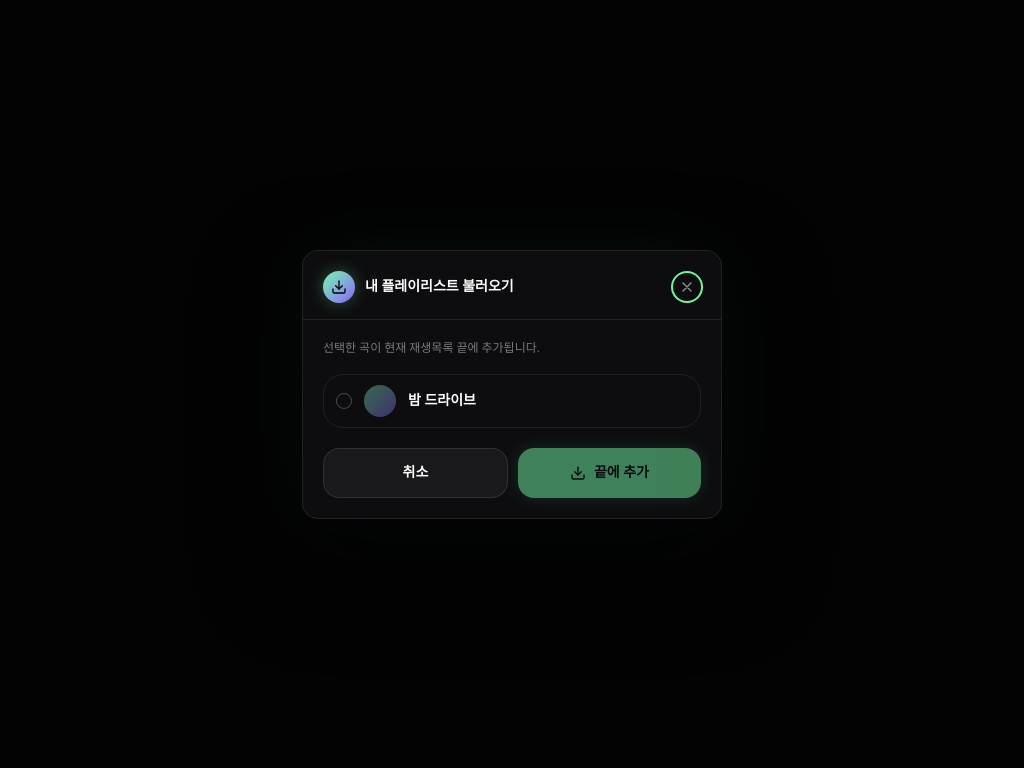
Test case: ImportToRoomDialog › 추가된 곡이 0이면 "추가할 새 곡이 없어요"로 안내한다
This screenshot has width=1024, height=768.
Click the button "밤 드라이브": click(380, 400) [323,374,701,428]
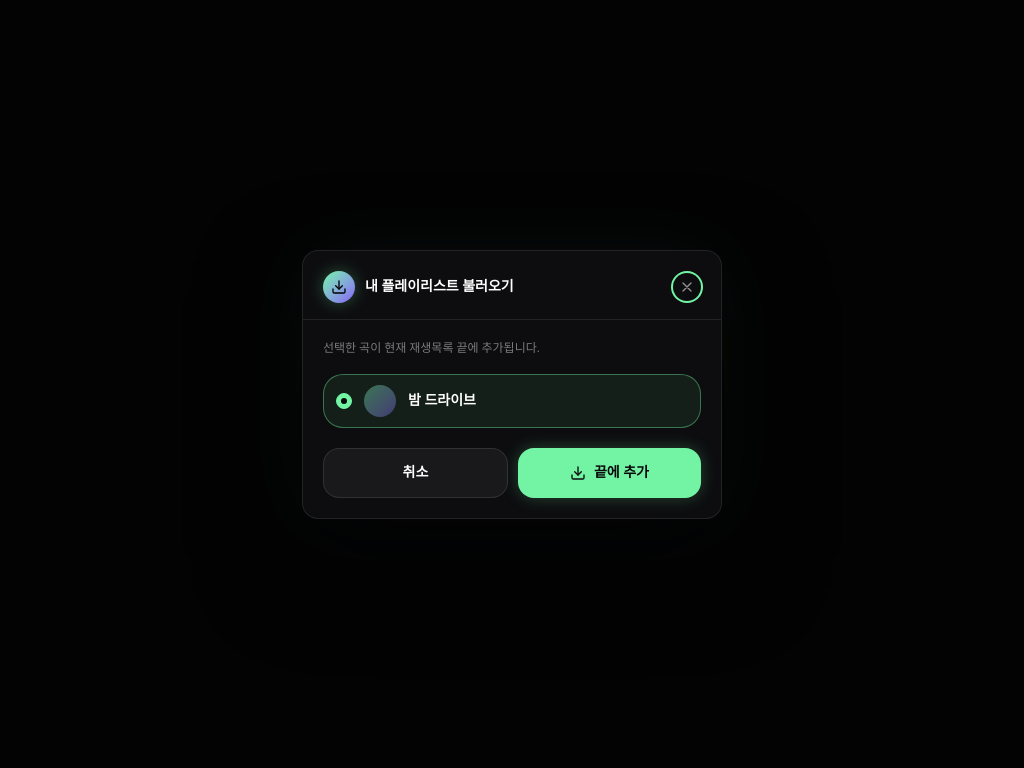
Click the button "끝에 추가": click(610, 472) [518,448,701,498]
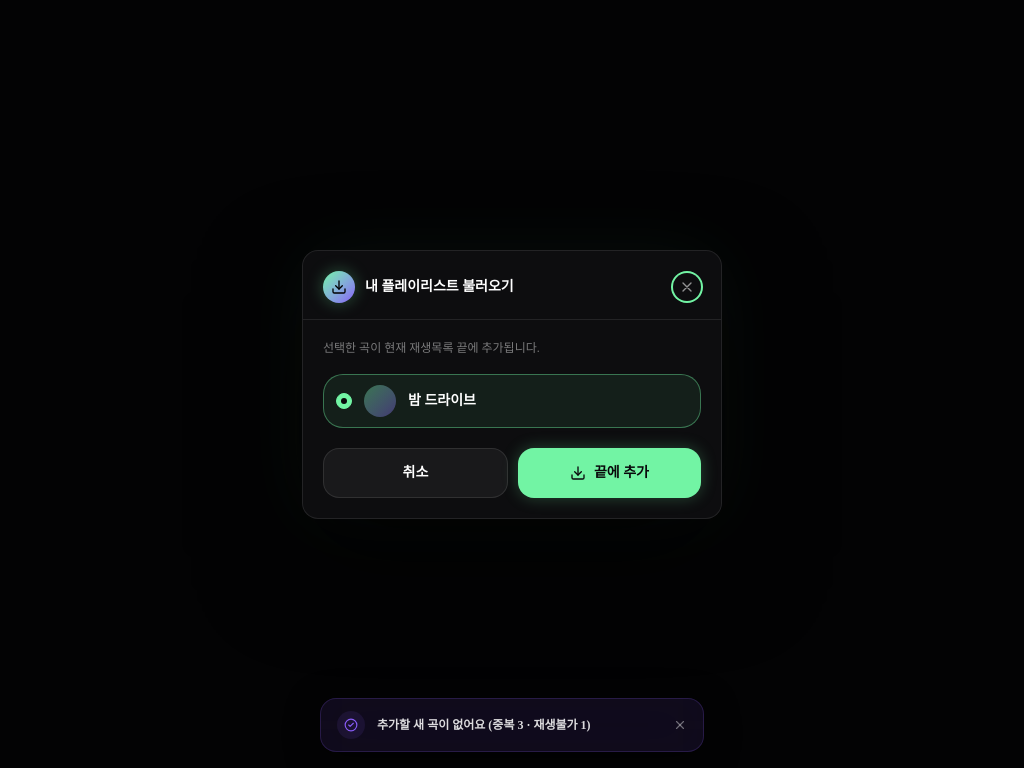
Check: the text "추가할 새 곡이 없어요 (중복 3 · 재생불가 1)" is shown, box [377,718,591,732]
